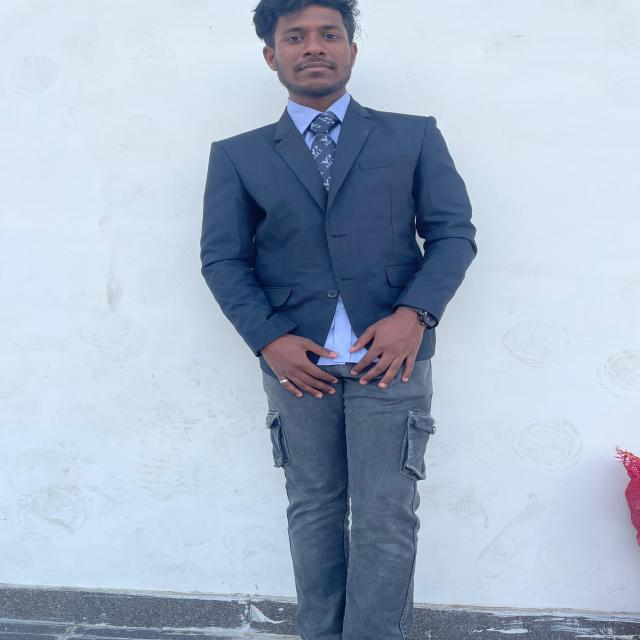Tie: (310, 113, 340, 196)
uniform: (198, 92, 478, 639)
